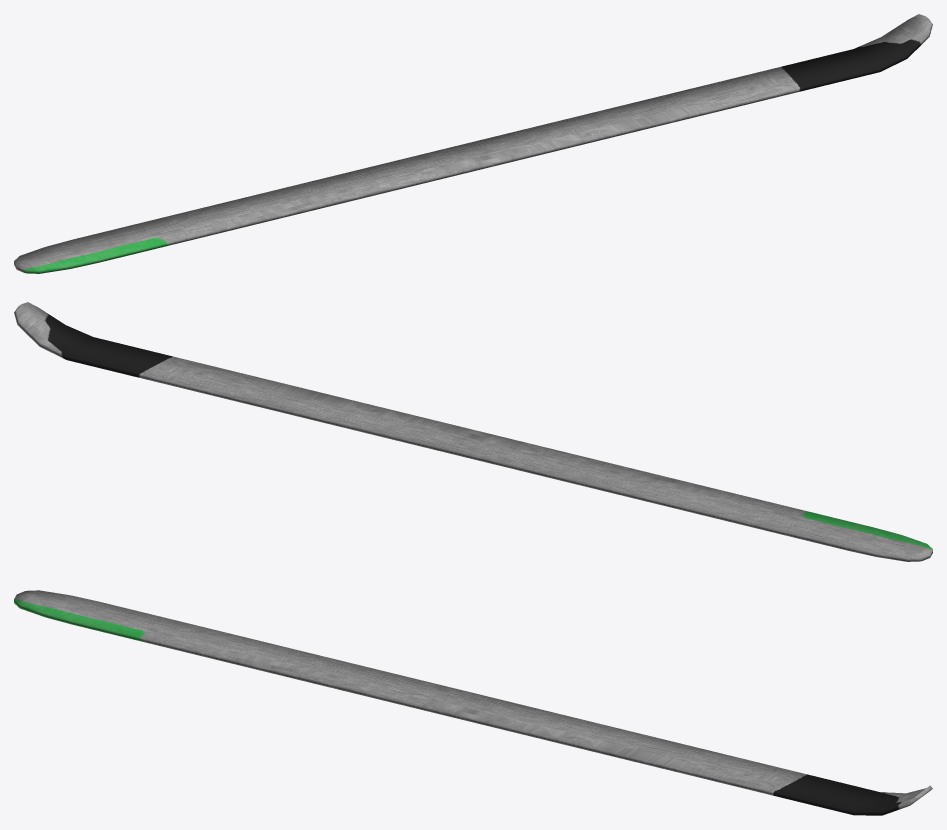
Rendered from espatula.fbx.
The picture shows the model from 3 angles, top to bottom: view 1: azimuth 30°, elevation 25°; view 2: azimuth 150°, elevation 25°; view 3: azimuth 330°, elevation 25°; orthographic projection.
Parts seen in each view (by area): view 1: espatula.001; view 2: espatula.001; view 3: espatula.001.
Part boxes in pixels (x1=…): espatula.001: x1=14, y1=14, x2=932, y2=273; espatula.001: x1=14, y1=302, x2=932, y2=561; espatula.001: x1=14, y1=590, x2=932, y2=815.
Bounding box in the file's own units: 3236 × 107 × 162.
